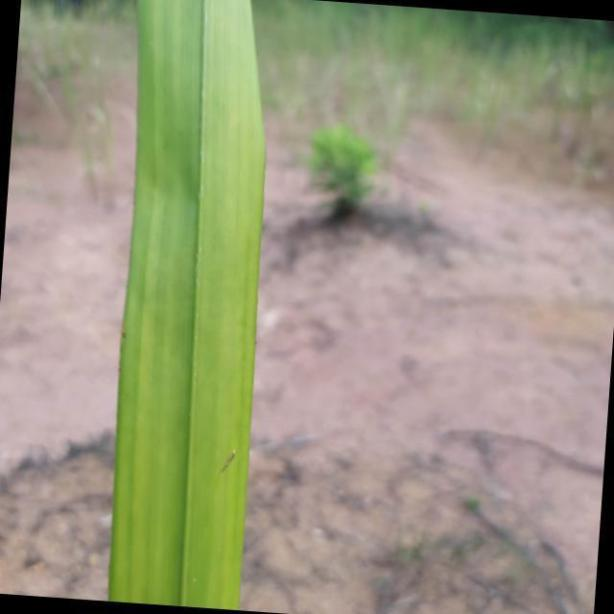nitrogen: (107, 0, 264, 614)
